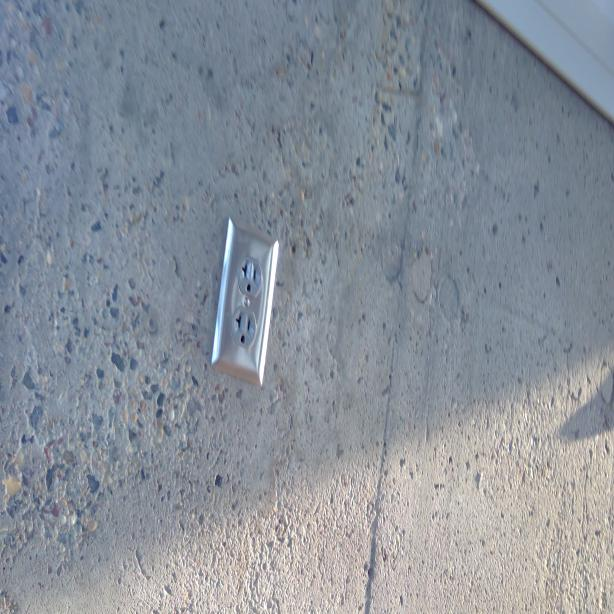typeb: (236, 253, 263, 298), (232, 308, 256, 348)
